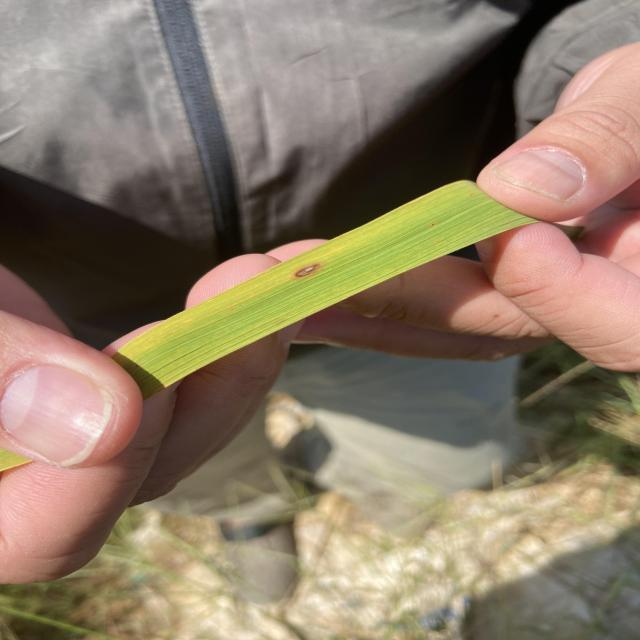Dom nau: (295, 264, 321, 277)
